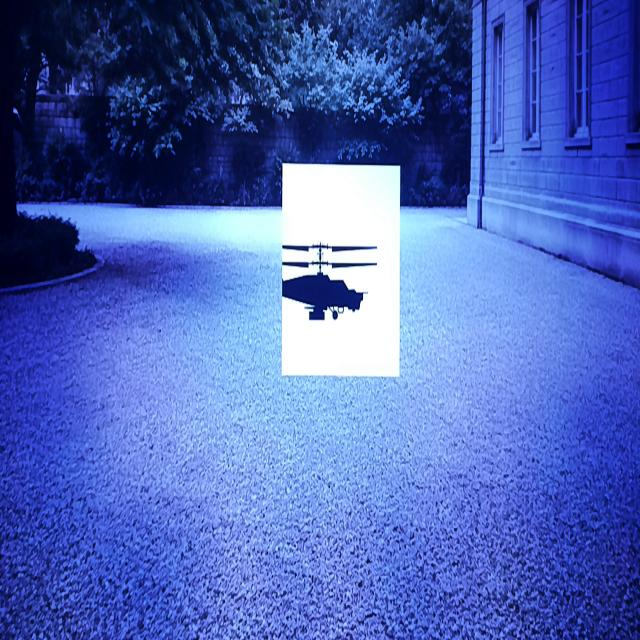Ka-52 Enemy: (283, 244, 376, 319)
